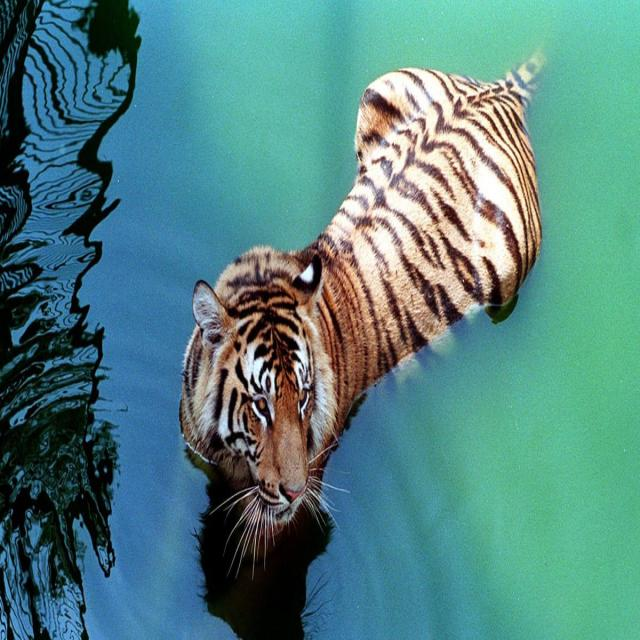Tiger: (178, 49, 544, 582)
